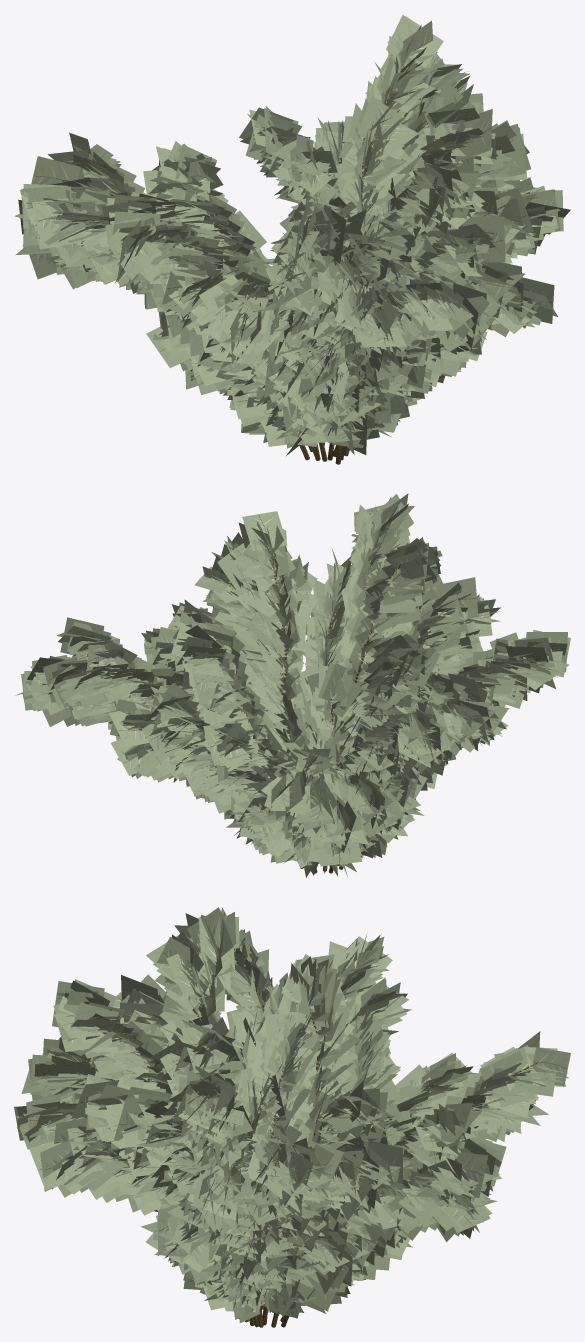
File: willow_shrub_v02.glb
3 renders of one model, top to bottom at view 1: azimuth 30°, elevation 25°; view 2: azimuth 150°, elevation 25°; view 3: azimuth 270°, elevation 25°, orthographic. The views are drawn at different scales.
Parts seen in each view (by area): view 1: willow_shrub_v02; view 2: willow_shrub_v02; view 3: willow_shrub_v02.
Part boxes in pixels (<box>): willow_shrub_v02: <box>14,14,570,464</box>; willow_shrub_v02: <box>15,493,570,877</box>; willow_shrub_v02: <box>14,907,570,1327</box>.
Bounding box in the file's own units: 5.82 × 4.2 × 5.69.
Materials: 2 (2 with a texture image).
